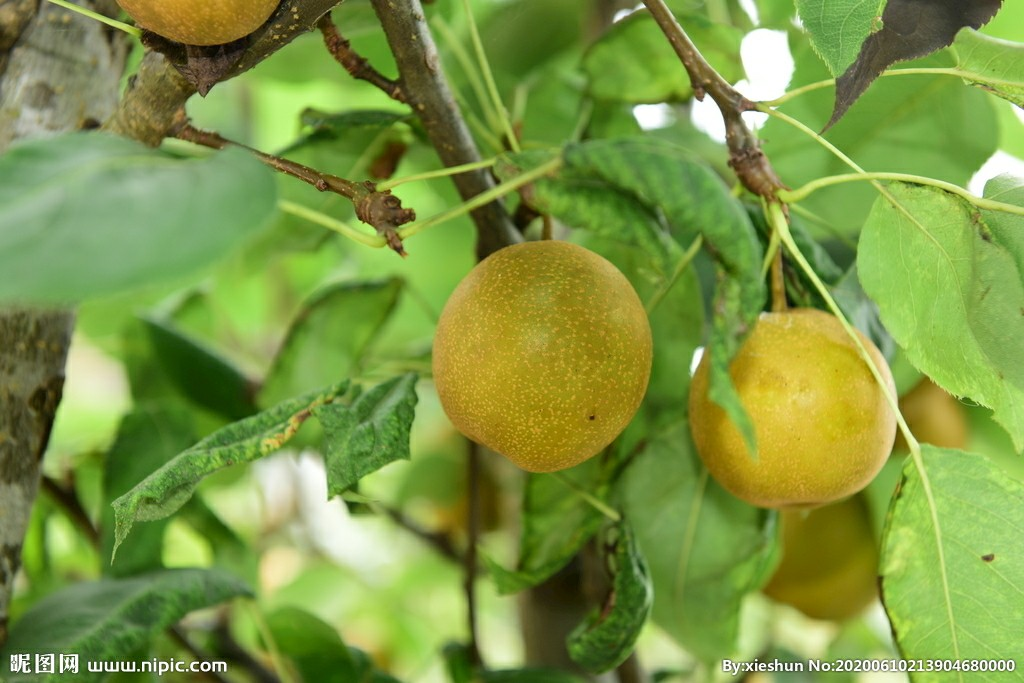pear: (430, 241, 653, 473), (687, 306, 896, 507), (117, 1, 291, 45)
